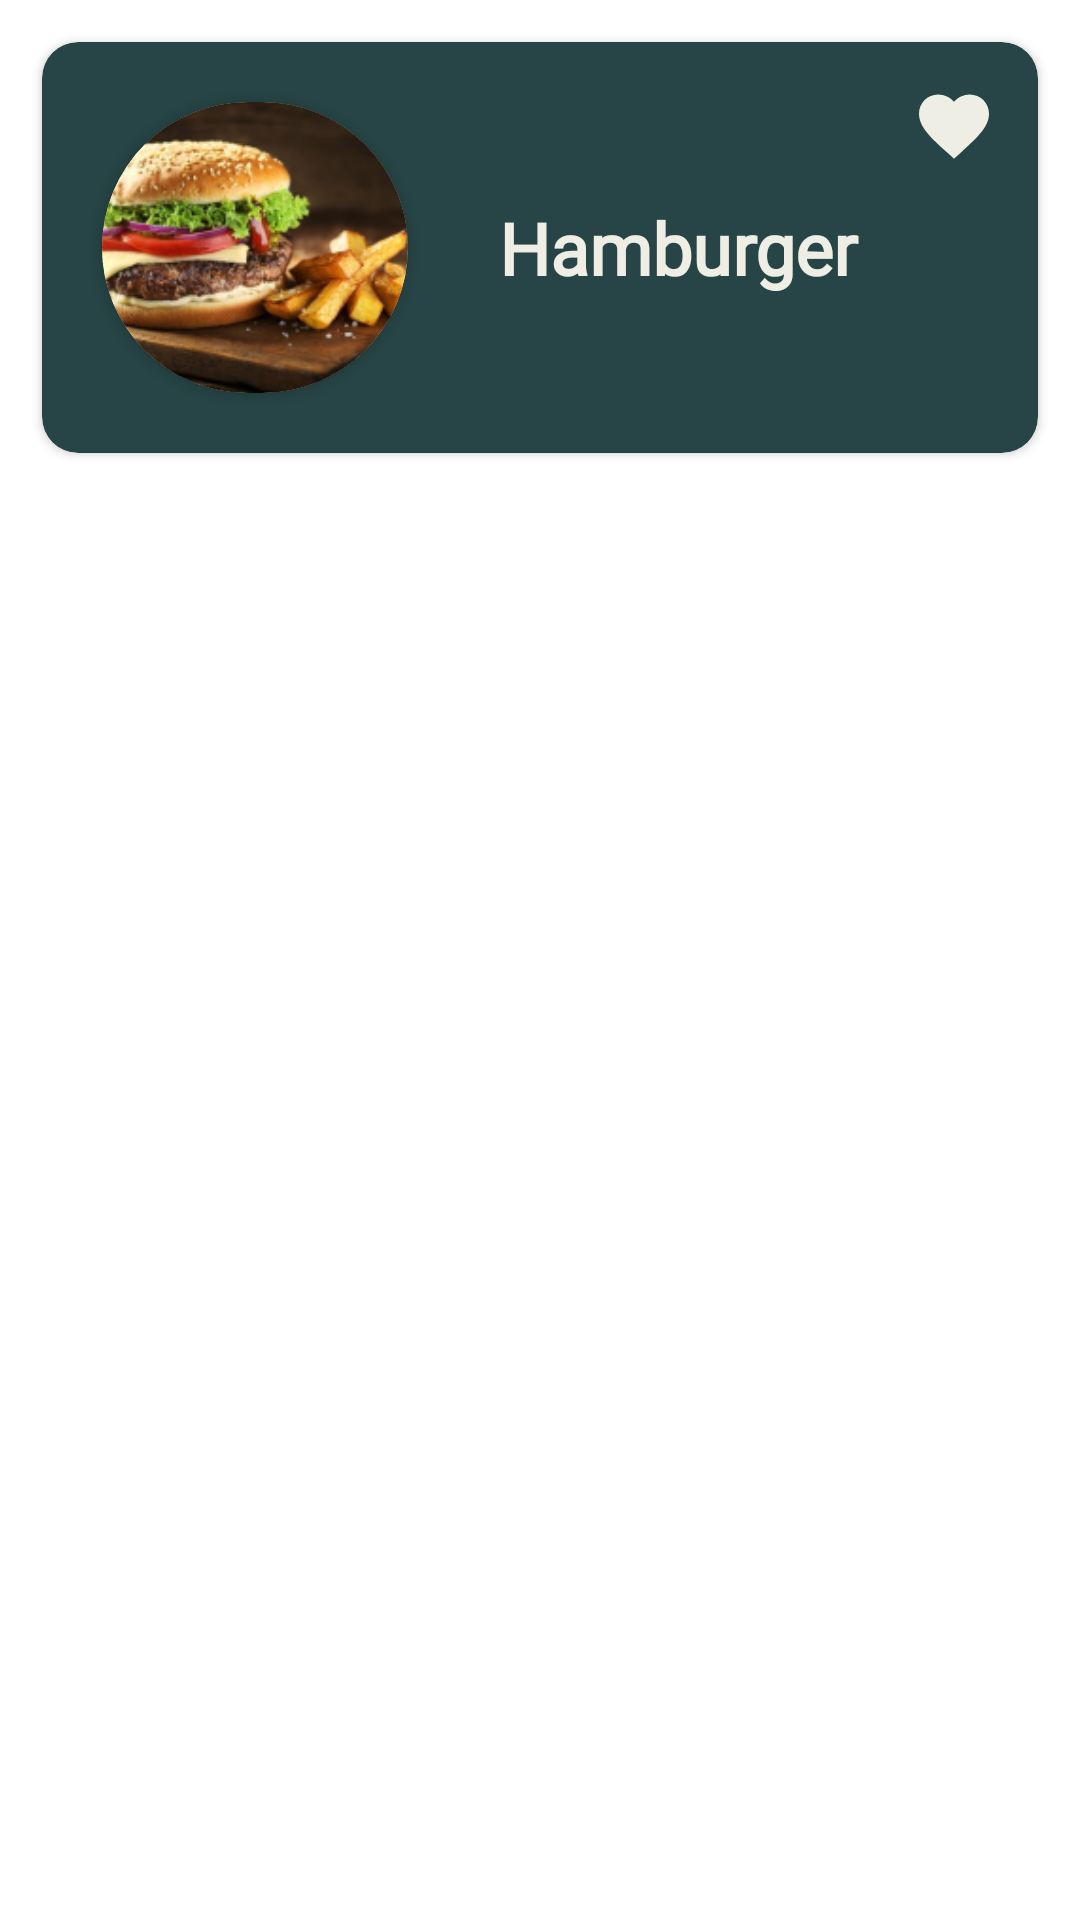

Named icons in this screenshot (1080x1920) and their bounding boxes, detection(x1, y1, x2, y2):
full favorite brown: detection(919, 94, 989, 159)
yemek: detection(102, 102, 408, 393)
